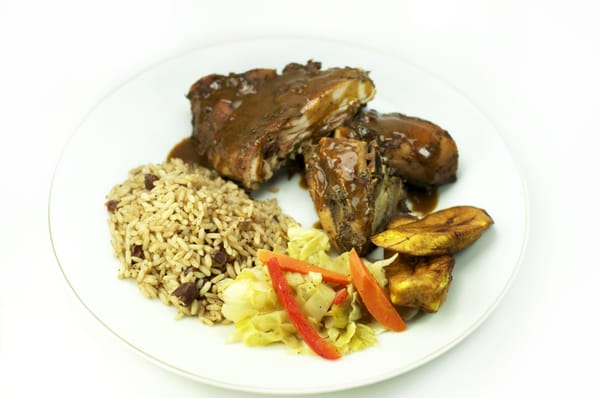sushi: (44, 41, 532, 390)
